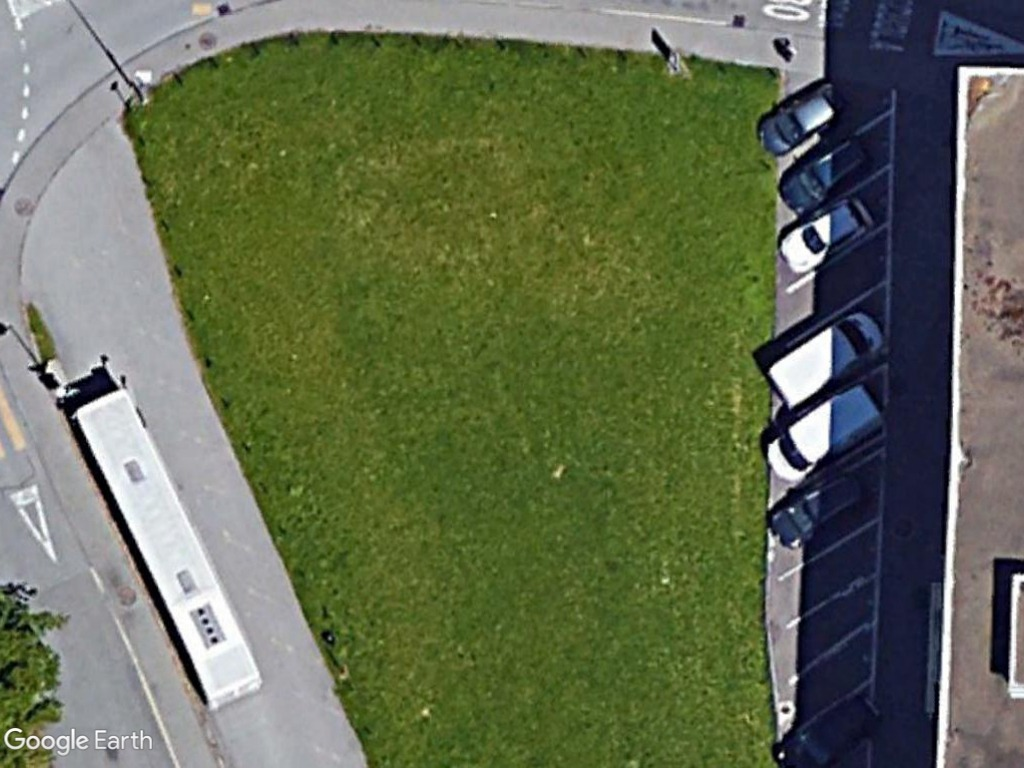bus: (66, 387, 270, 713)
car: (777, 194, 882, 277), (756, 83, 854, 160), (778, 137, 874, 211)
van: (760, 311, 888, 405), (763, 384, 885, 481)
